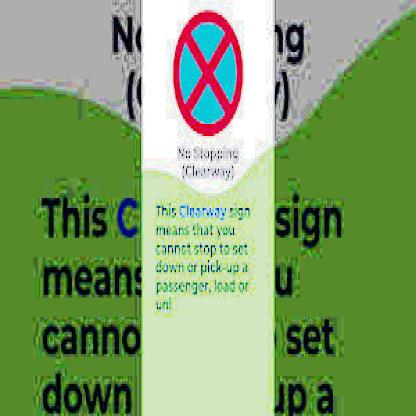No stopping: (172, 12, 244, 138)
